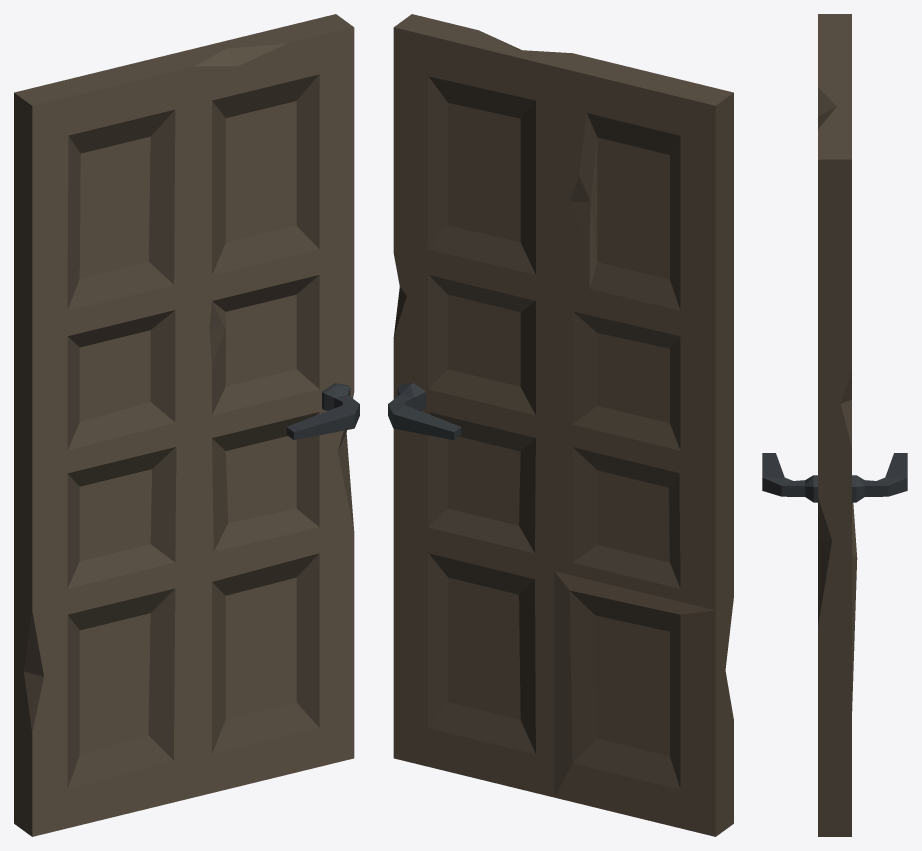
File: SM_Bld_Village_Door_Hinge_01.fbx
3 views of the same model, side by side, from view 1: azimuth 30°, elevation 25°; view 2: azimuth 150°, elevation 25°; view 3: azimuth 270°, elevation 25° (orthographic). The views are drawn at different scales.
Visible parts, largest first — view 1: SM_Bld_Village_Door_Hinge_01; view 2: SM_Bld_Village_Door_Hinge_01; view 3: SM_Bld_Village_Door_Hinge_01.
Part boxes in pixels (x1,y1,x2,y2): SM_Bld_Village_Door_Hinge_01: (14, 14, 359, 836); SM_Bld_Village_Door_Hinge_01: (388, 14, 733, 836); SM_Bld_Village_Door_Hinge_01: (762, 14, 907, 836).
Bounding box in the file's own units: 103 × 222 × 43.24.
